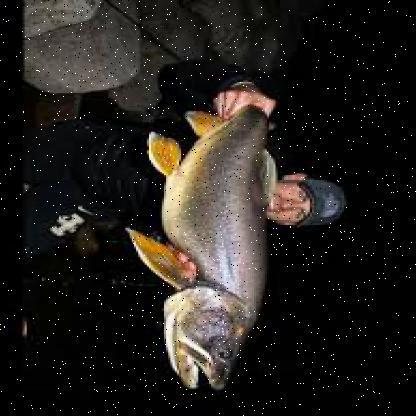fish: (128, 89, 278, 390)
